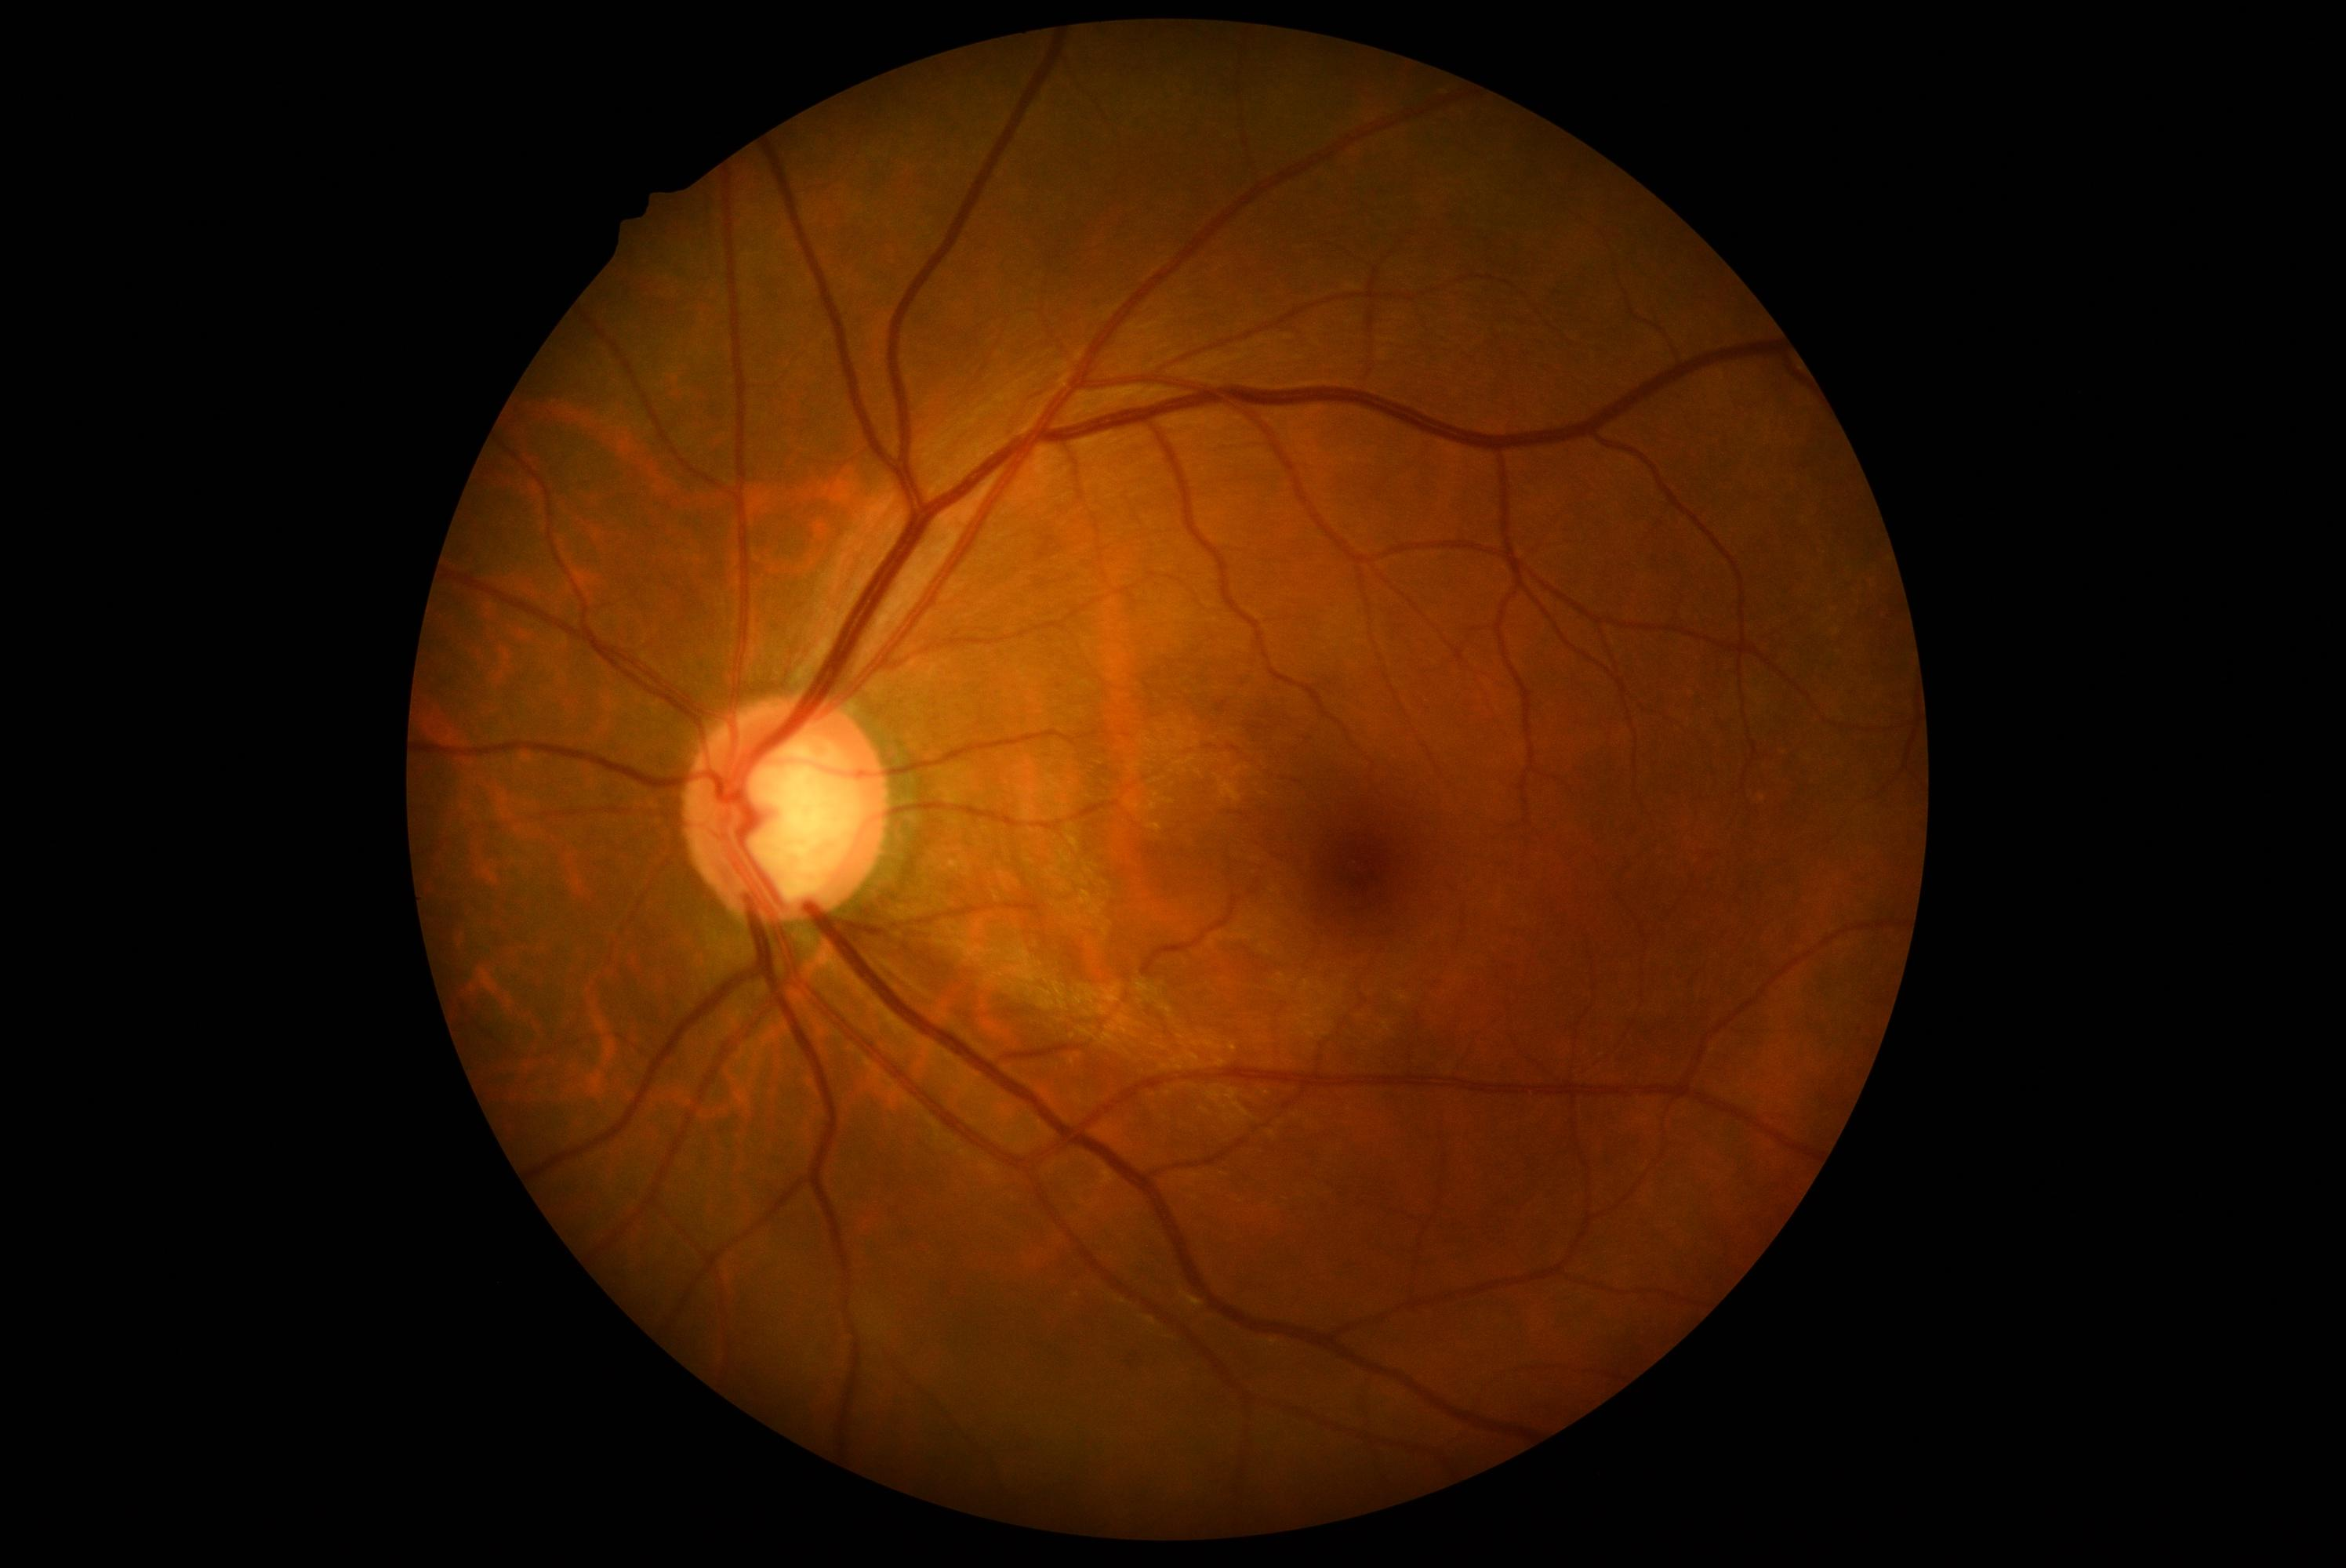Fovea: (1286, 786, 1431, 933)
